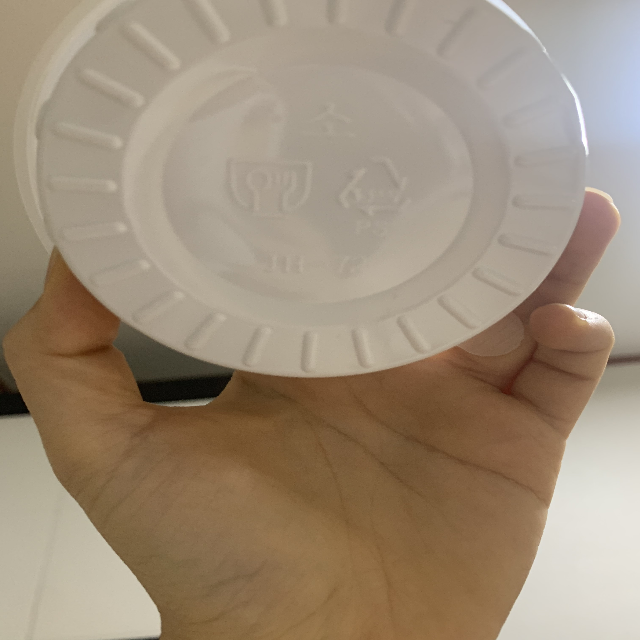ps: (332, 151, 407, 237)
